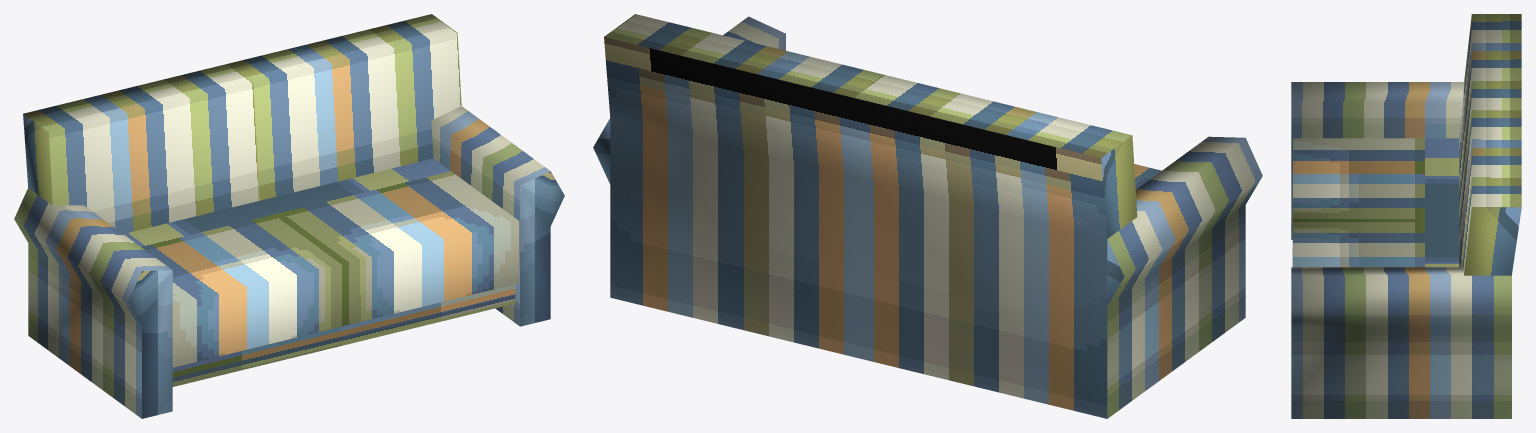
3 renders of one model, left to right at view 1: azimuth 30°, elevation 25°; view 2: azimuth 150°, elevation 25°; view 3: azimuth 270°, elevation 25°, orthographic. The views are drawn at different scales.
Visible parts, largest first — view 1: 3114IMRL09_03; view 2: 3114IMRL09_03; view 3: 3114IMRL09_03.
Boxes of the visible parts, x1,y1,x2,y2 form: 3114IMRL09_03: (14,14,564,418); 3114IMRL09_03: (593,14,1262,418); 3114IMRL09_03: (1291,14,1521,418).
Size of the model in its own units: 1.92 by 0.9143 by 0.9033.
4 materials, 4 textured.
